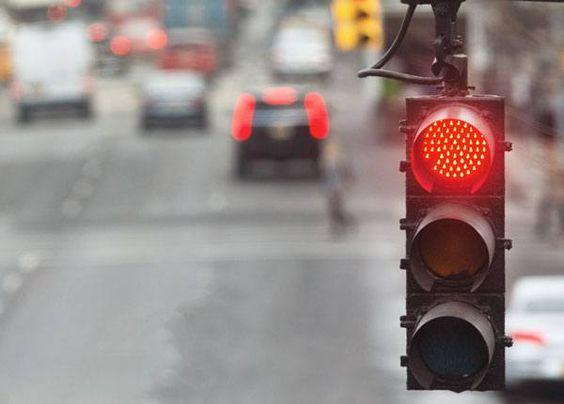red: (395, 90, 521, 398)
